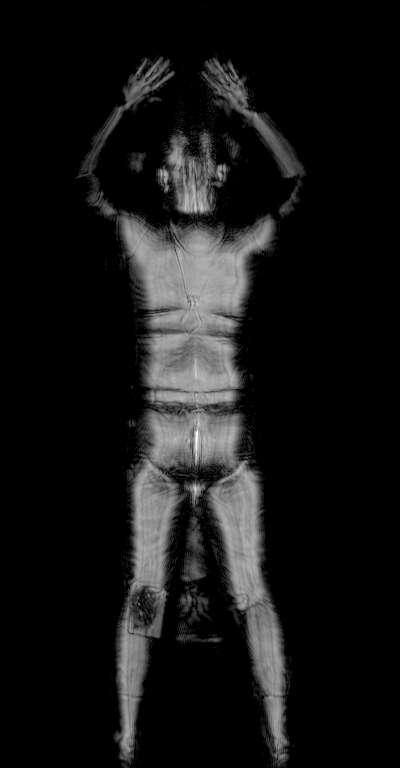head: (152, 124, 233, 200)
others: (121, 578, 168, 642)
person: (74, 55, 304, 768)
